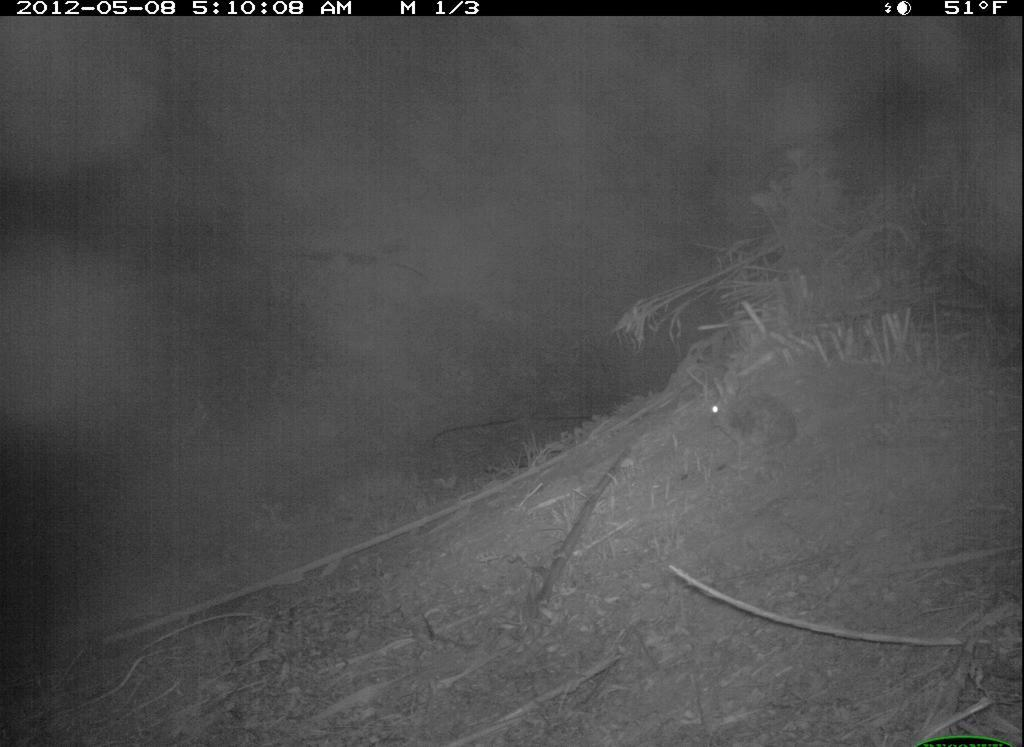rabbit: (706, 363, 808, 459)
